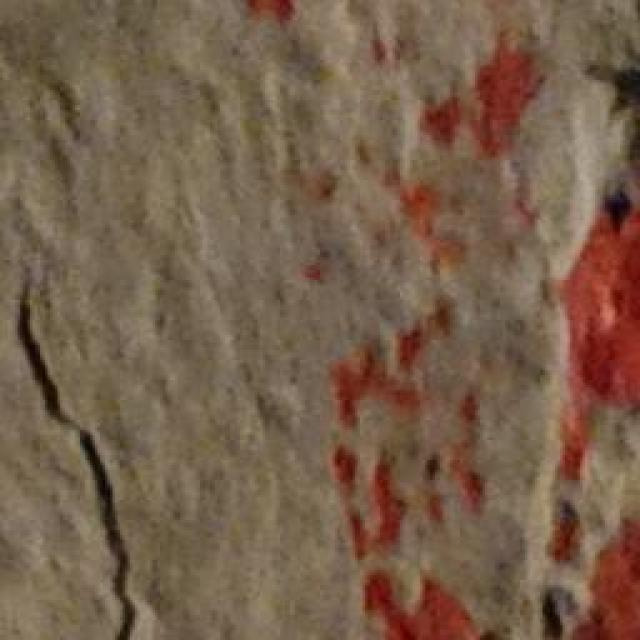Longitudinal: (3, 260, 152, 640)
